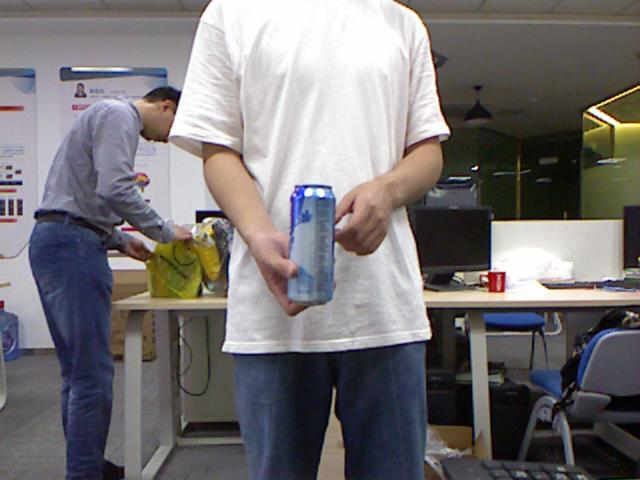metal: (288, 184, 335, 306)
